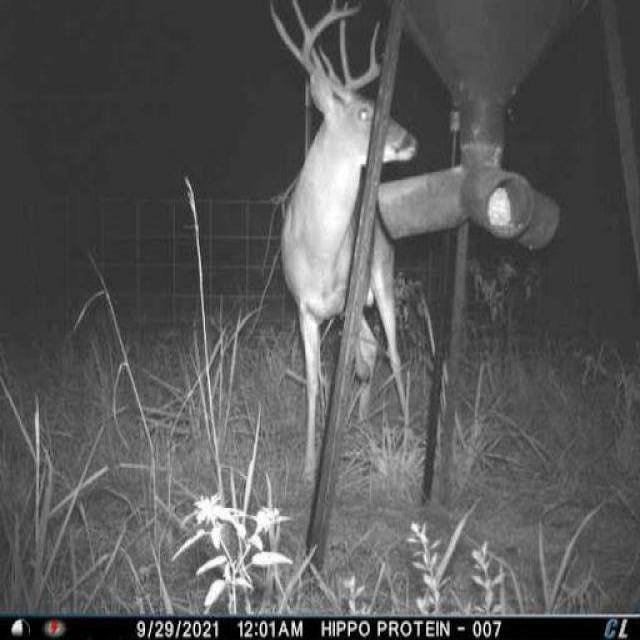deer: (255, 0, 423, 493)
